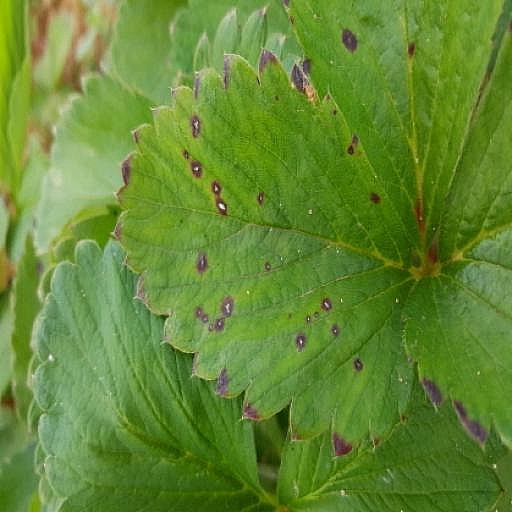Leaf Spot: (87, 46, 402, 460), (5, 0, 231, 259)
